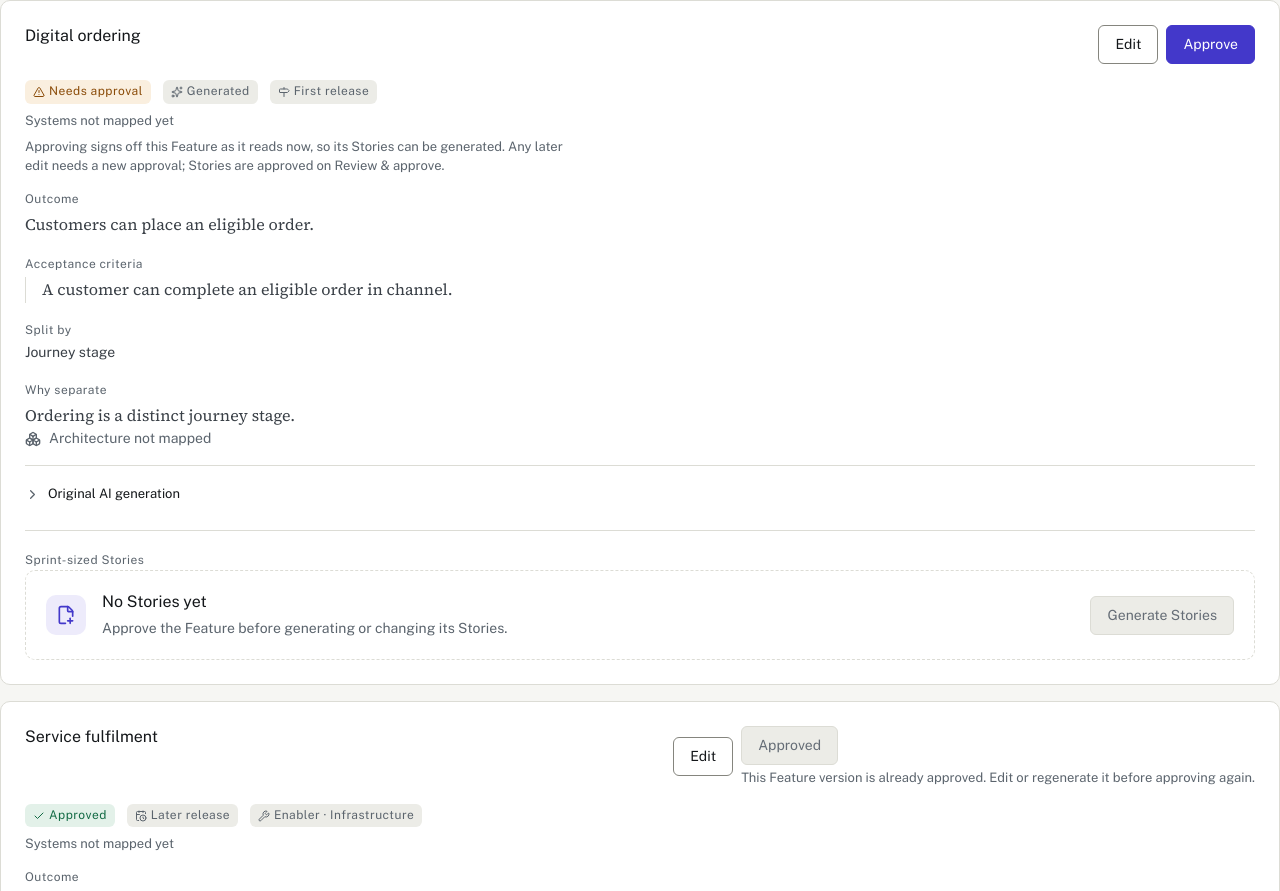
Test: FeatureTree › edits one Feature while leaving its sibling visible
The width and height of the screenshot is (1280, 891).
Step 1. Click the button "Edit" in the row of "Digital ordering" → (1128, 44), box [1098, 25, 1158, 64]
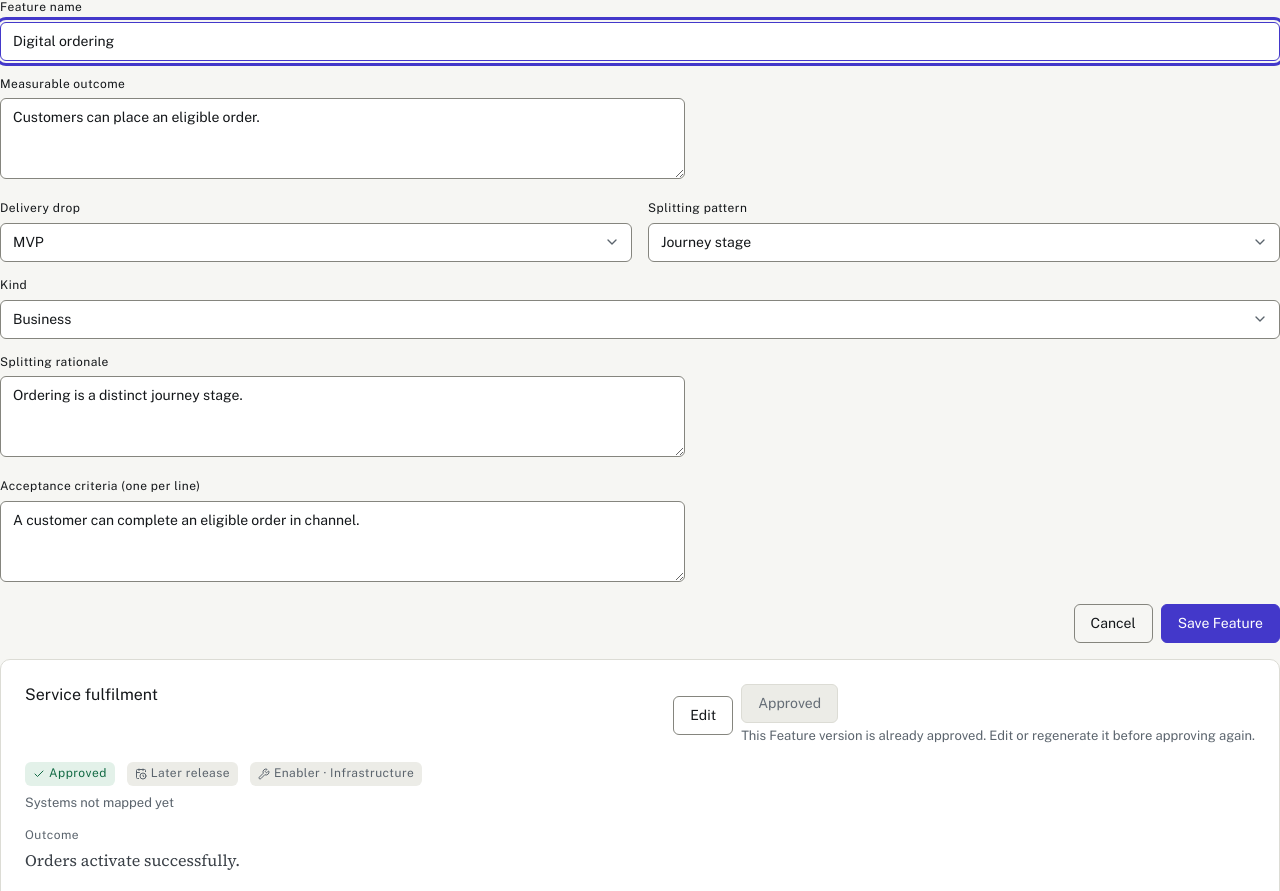
Expected: the heading "Service fulfilment" is shown, [25, 684, 158, 706]
Now the field showing "Digital ordering" is shown, box [0, 22, 1279, 61]
